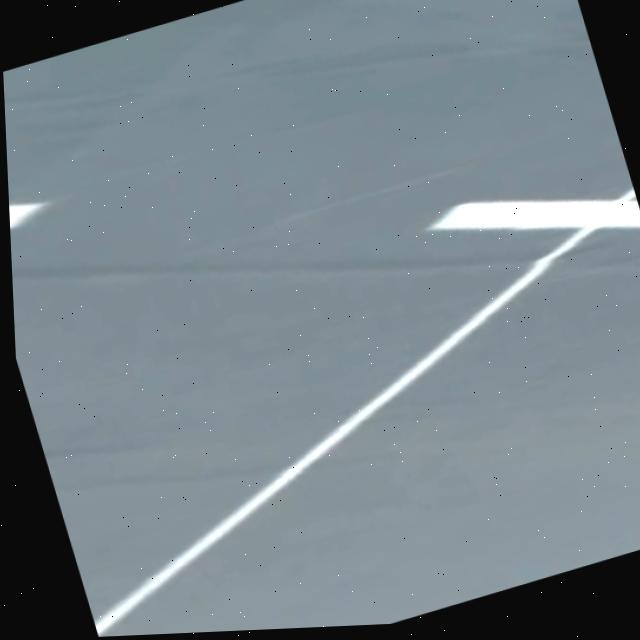center: (430, 196, 640, 228), (9, 201, 47, 227)
